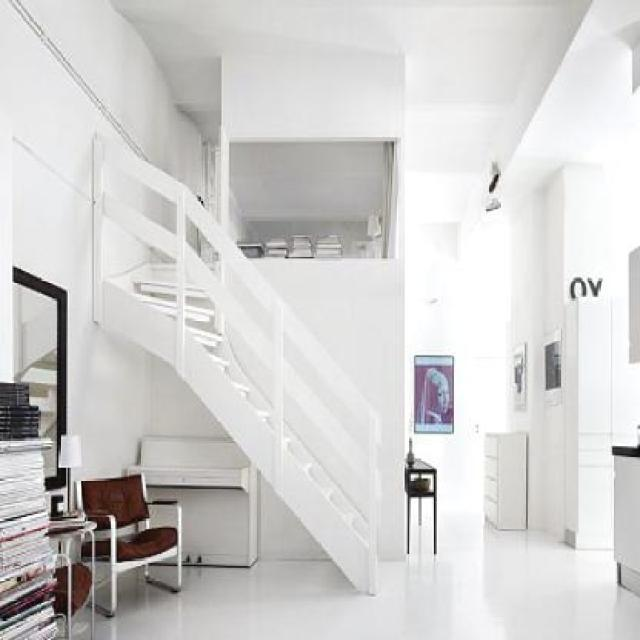stair: (86, 127, 406, 618)
